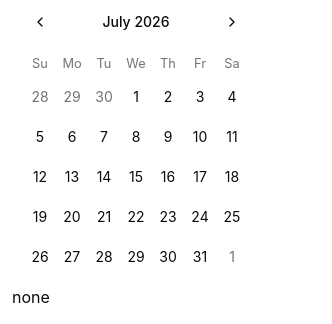
Test case: Calendar › selects a single day when mode is single
What coordinates should you click on to do the following:
click the button "15"
I would click on:
 (136, 177)
Its box is [120,161,152,193].
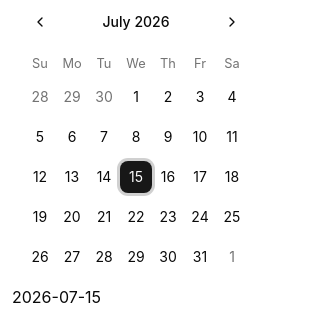
Expected: the text with test id "selected" reads "2026-07-15", [12,287,101,307]
